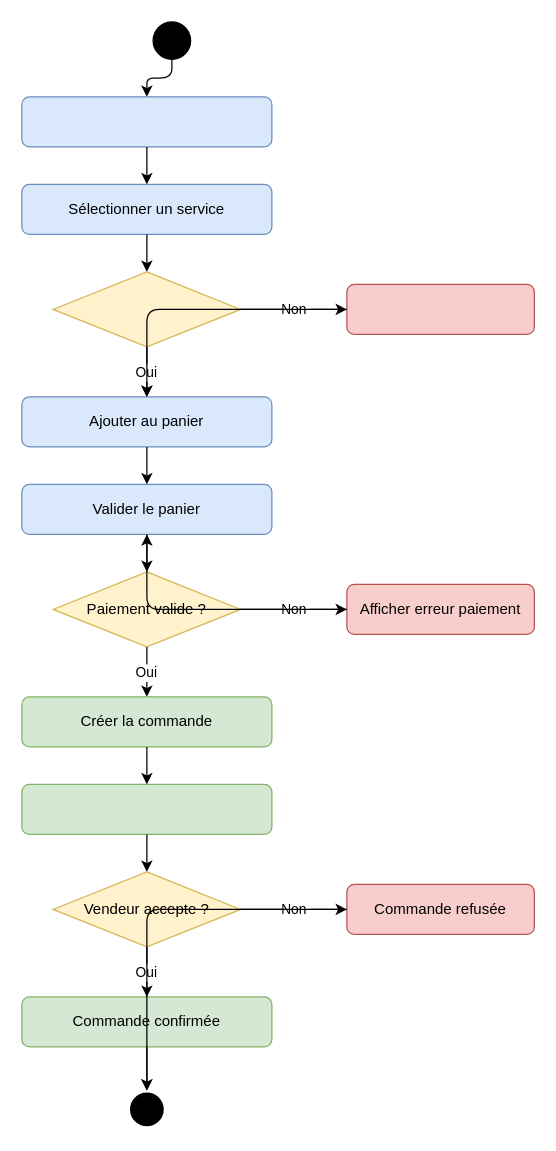
This 556x1151 diagram has some shape labels left out. The shapes that lost their labels are listed below. From the top down, each one's box as (x1, y1, x2, y2) in pixels, then its label:
(21, 96, 272, 147): Consulter le catalogue
(52, 271, 241, 347): Connecté ?
(346, 283, 534, 334): Se connecter
(21, 783, 272, 834): Notifier le vendeur
